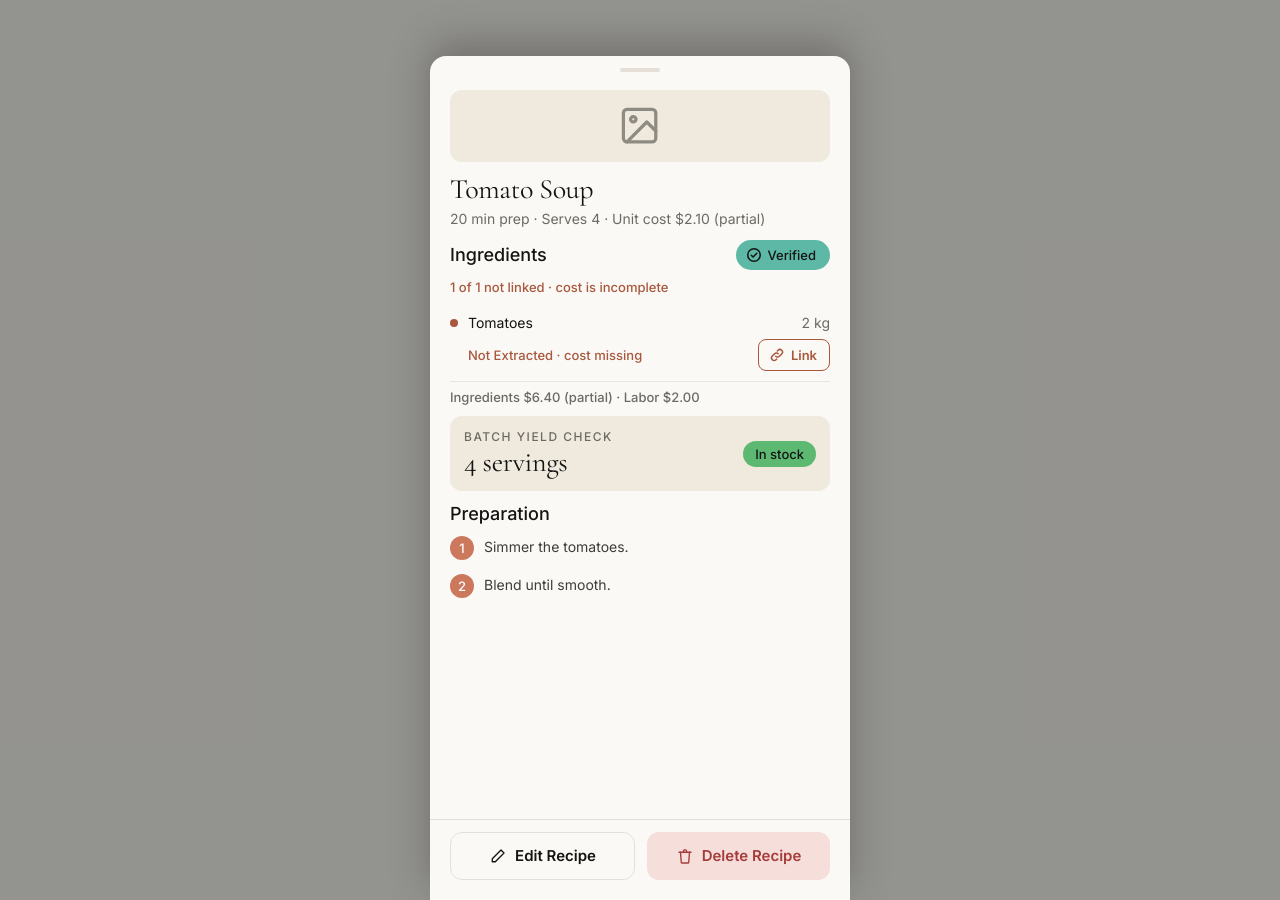
Scenario: RecipeDetailPage delete › explains a failed delete inline without navigating away
Click the button "Delete Recipe" at (738, 856), box [647,832,830,880]
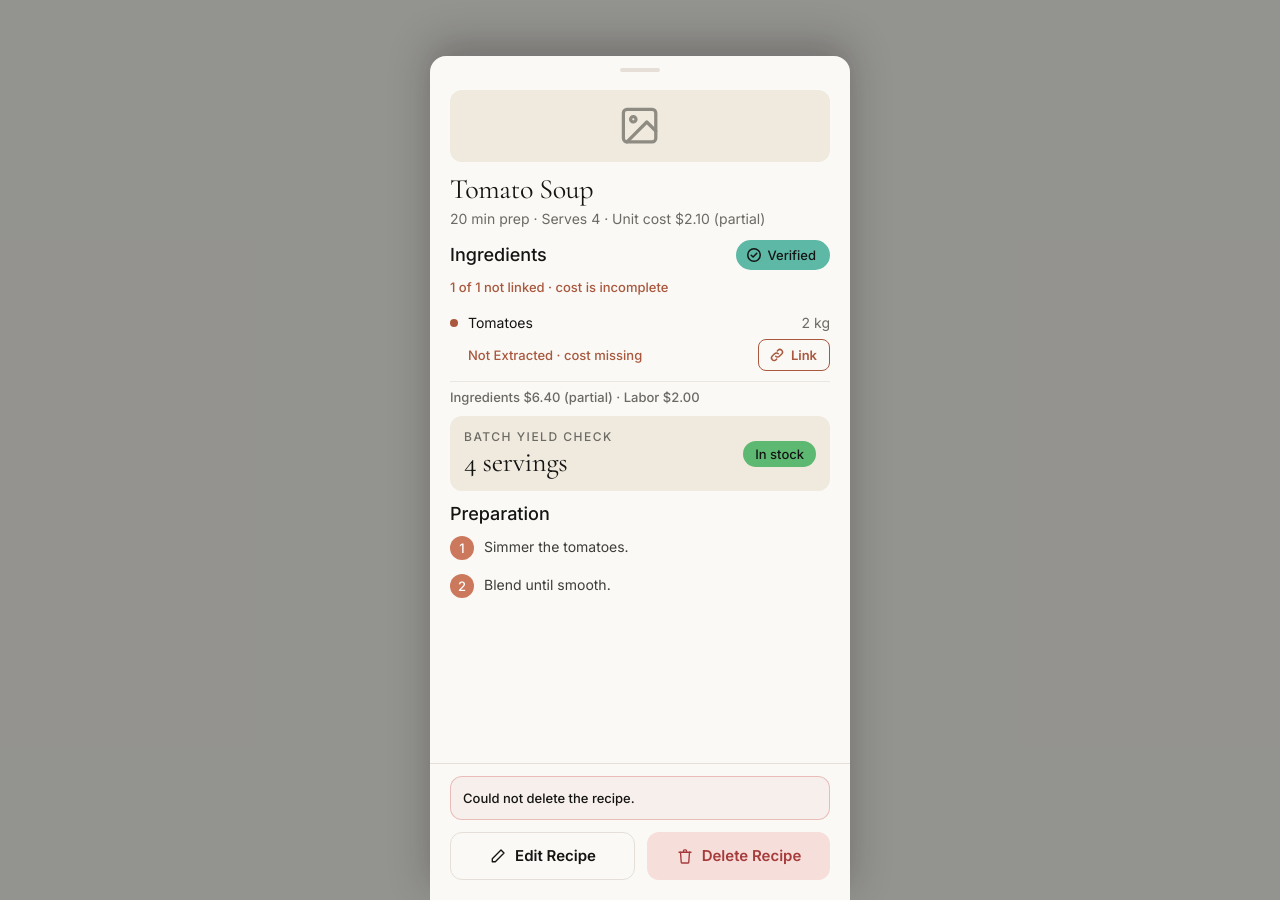
Now the text "Could not delete the recipe." is shown, box [450,776,830,820]
